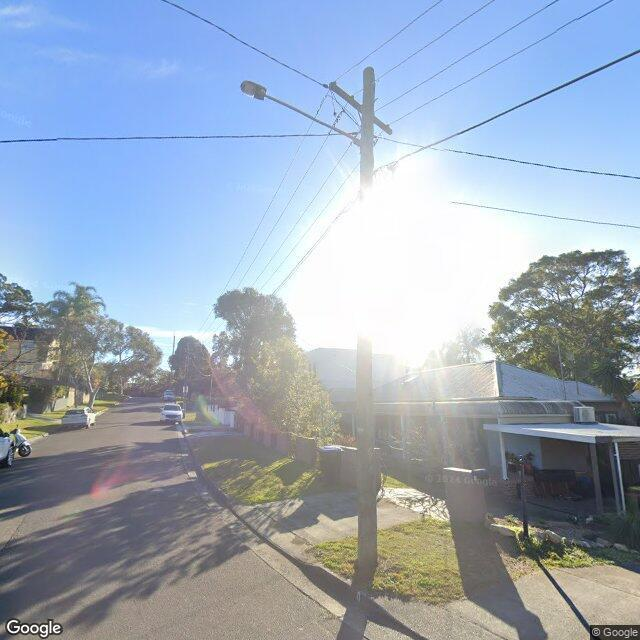crossarm: (326, 82, 394, 137)
streetlight: (240, 77, 364, 146)
timber-pole: (357, 66, 379, 574)
